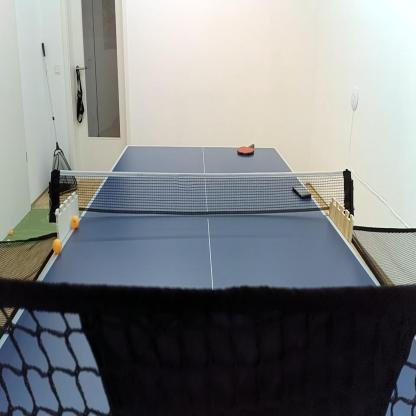Ball: (53, 238, 62, 253), (71, 213, 79, 229), (6, 238, 10, 246), (10, 230, 13, 236)
